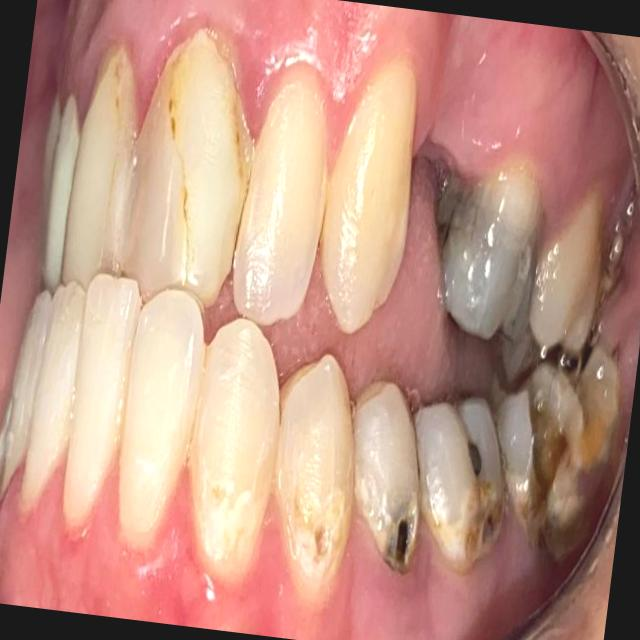caries: (112, 24, 264, 318), (176, 311, 292, 587), (254, 348, 368, 592), (502, 357, 624, 562), (432, 153, 550, 350), (335, 380, 442, 582), (59, 45, 146, 290), (403, 395, 518, 569)
